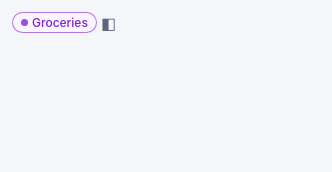
Test: CategoryCell on one expanded part of a split › says on hover which part it is and what the whole transaction was
Check: the text "One of 2 parts of $250.00" is not shown
Hover over the button with aria-label "edit the split" at (64, 22), box [12, 12, 116, 33]
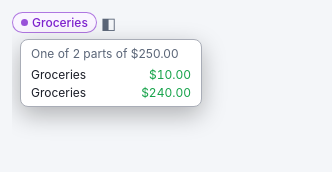
Check: the text "One of 2 parts of $250.00" is shown, box [31, 46, 191, 61]
Check: the text "$240.00" is shown, box [141, 85, 191, 100]
